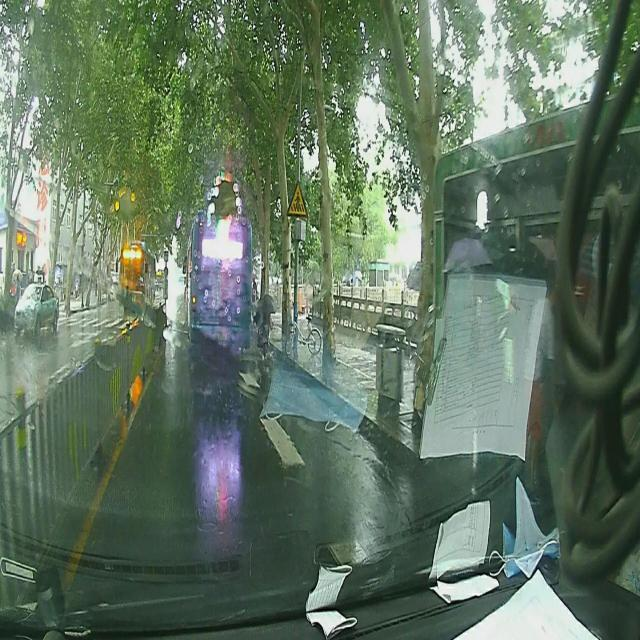car: (14, 278, 59, 338)
